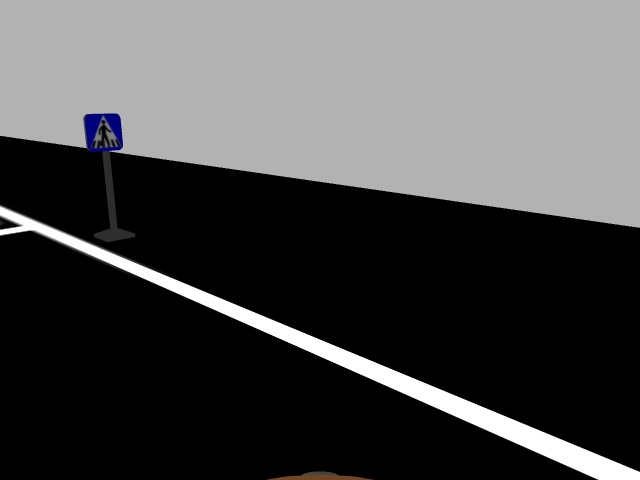crosswalk: (81, 111, 127, 154)
